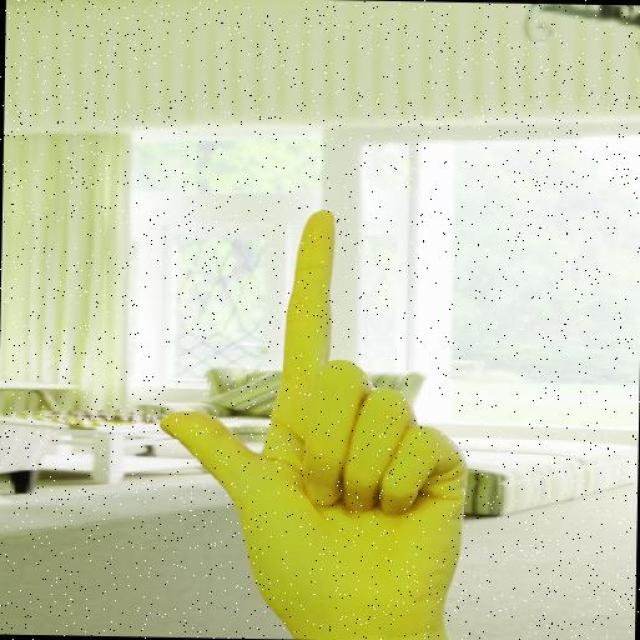L: (152, 204, 472, 614)
